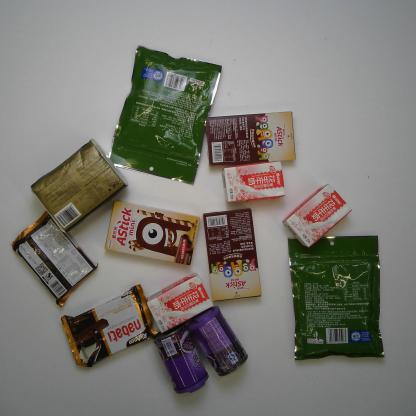Canned Food: (186, 304, 250, 378), (154, 323, 210, 396)
Dessert: (9, 208, 99, 308), (60, 282, 159, 368), (103, 199, 201, 267), (200, 207, 264, 304), (204, 110, 296, 168)
Dried Fruit: (107, 43, 224, 188), (287, 233, 388, 362)
Milk: (280, 182, 353, 250), (145, 270, 215, 334), (221, 160, 287, 205)
Tissue: (29, 138, 130, 235)
